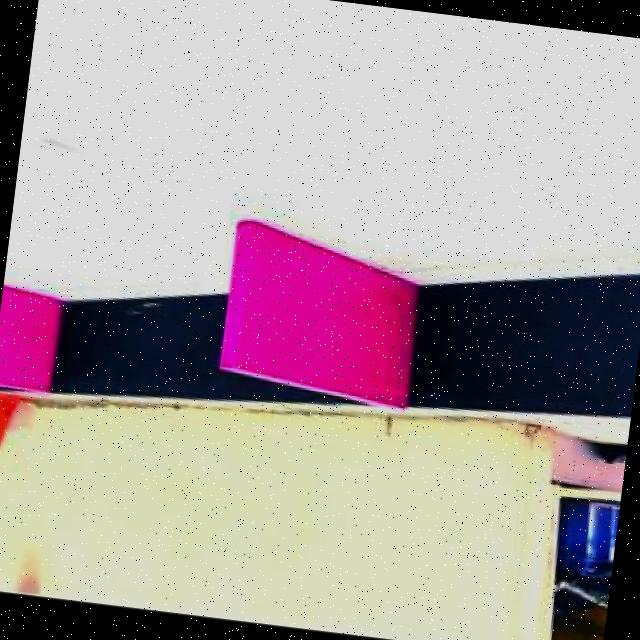xparking: (220, 242, 420, 396), (0, 293, 57, 388)
